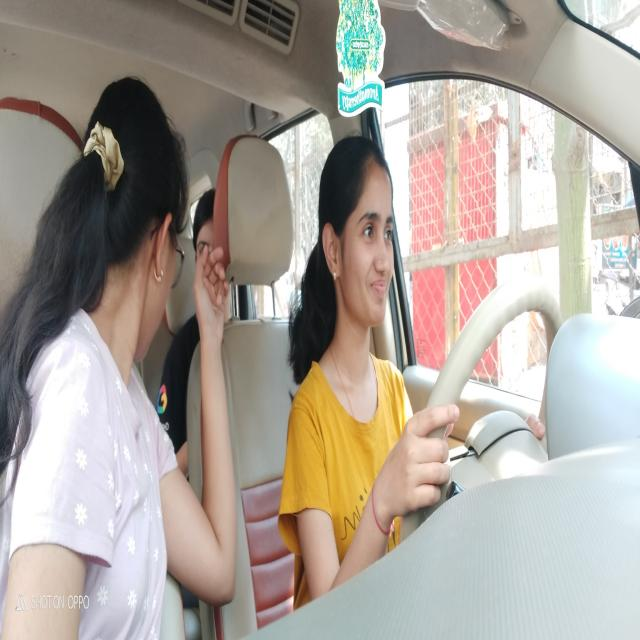person: (319, 134, 401, 350), (147, 68, 189, 371), (191, 190, 243, 320)
